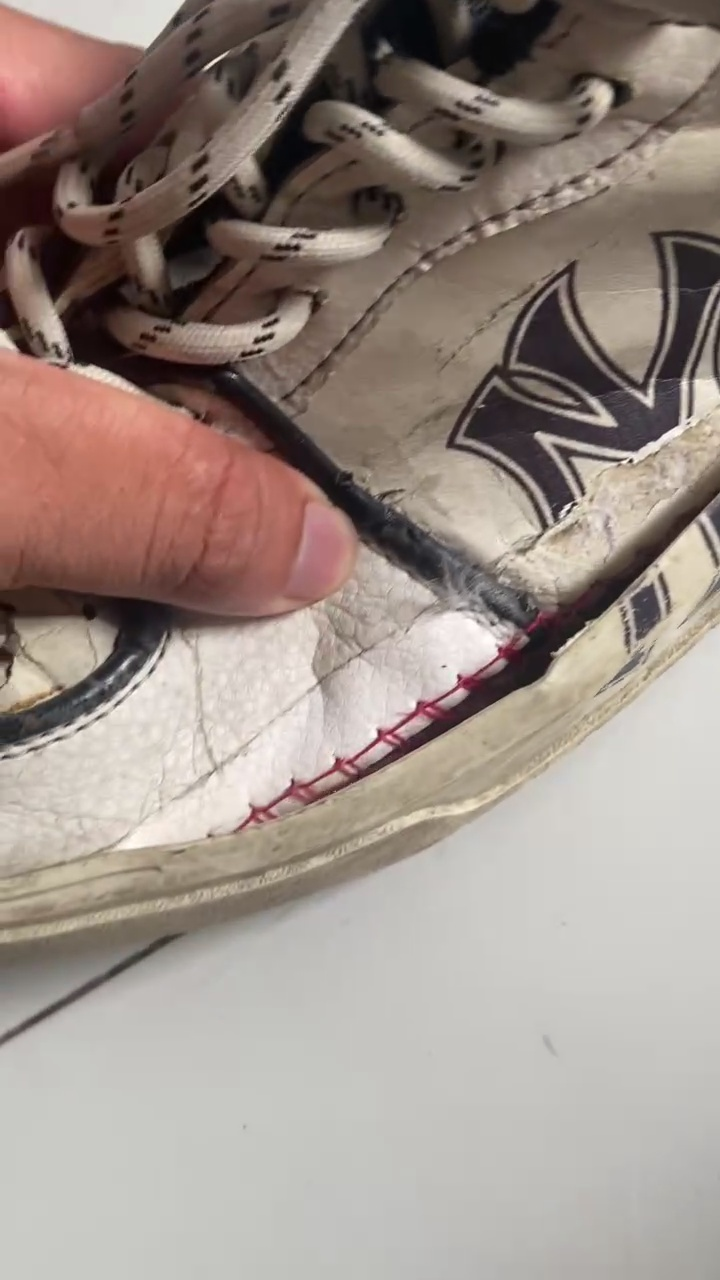bonding: (337, 647, 504, 809), (509, 524, 652, 709), (135, 748, 334, 867), (657, 415, 716, 567)
